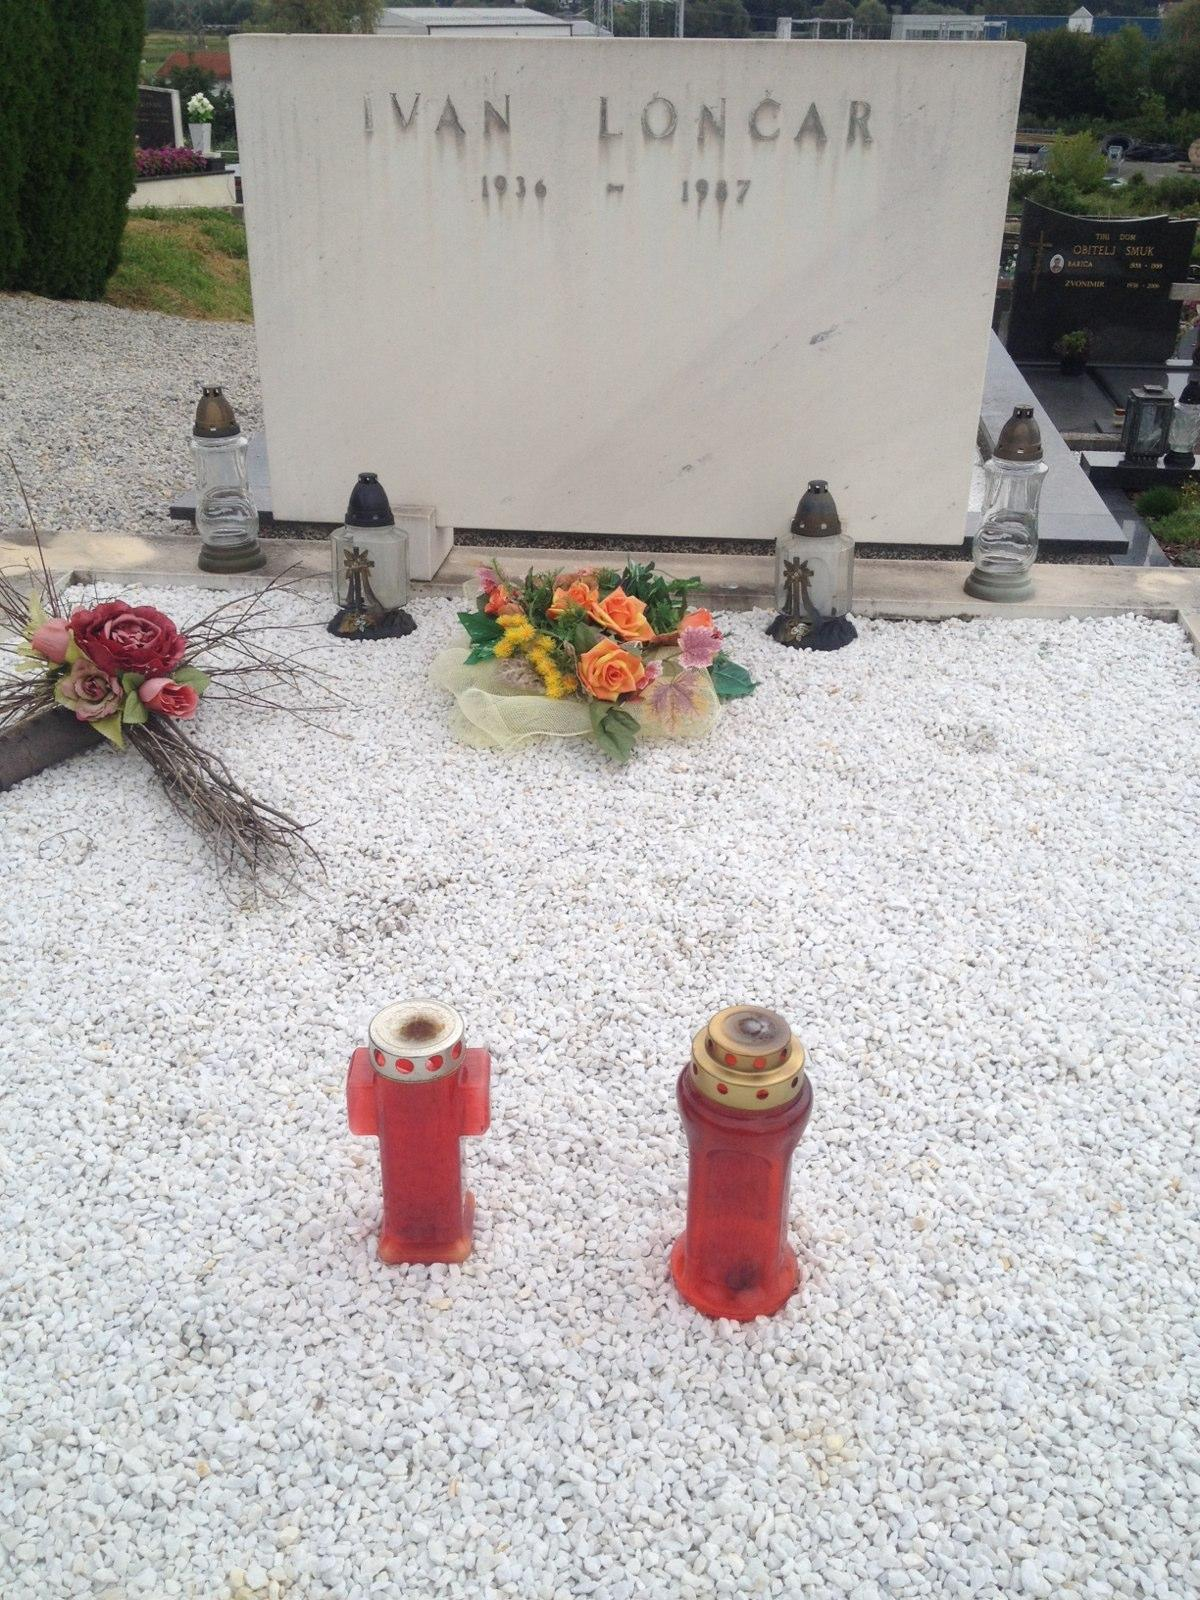vault: (3, 31, 1194, 1587)
